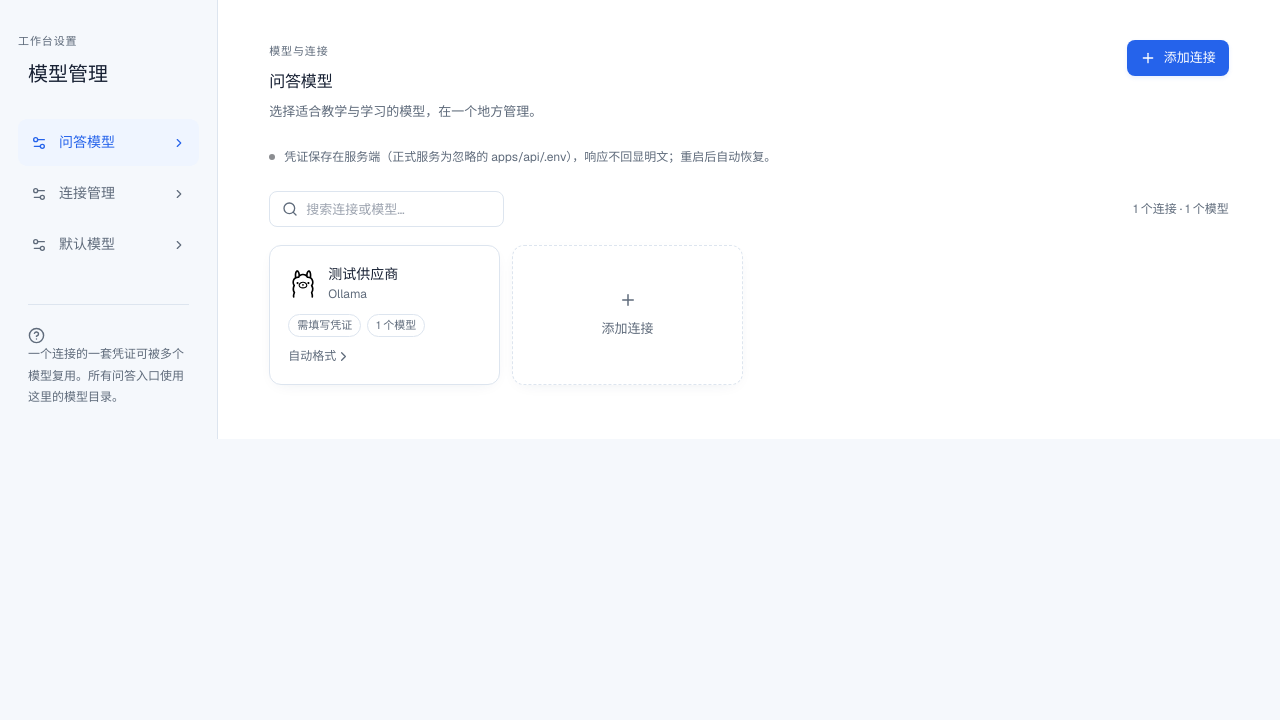
Scenario: 模型管理审查回归 › 本机免 Key 供应商可发起连接测试（MR-02）
The image size is (1280, 720).
Click the button with aria-label "打开 测试供应商 的详情".
click(385, 315)  # box [269, 245, 500, 385]
(page scrolled)
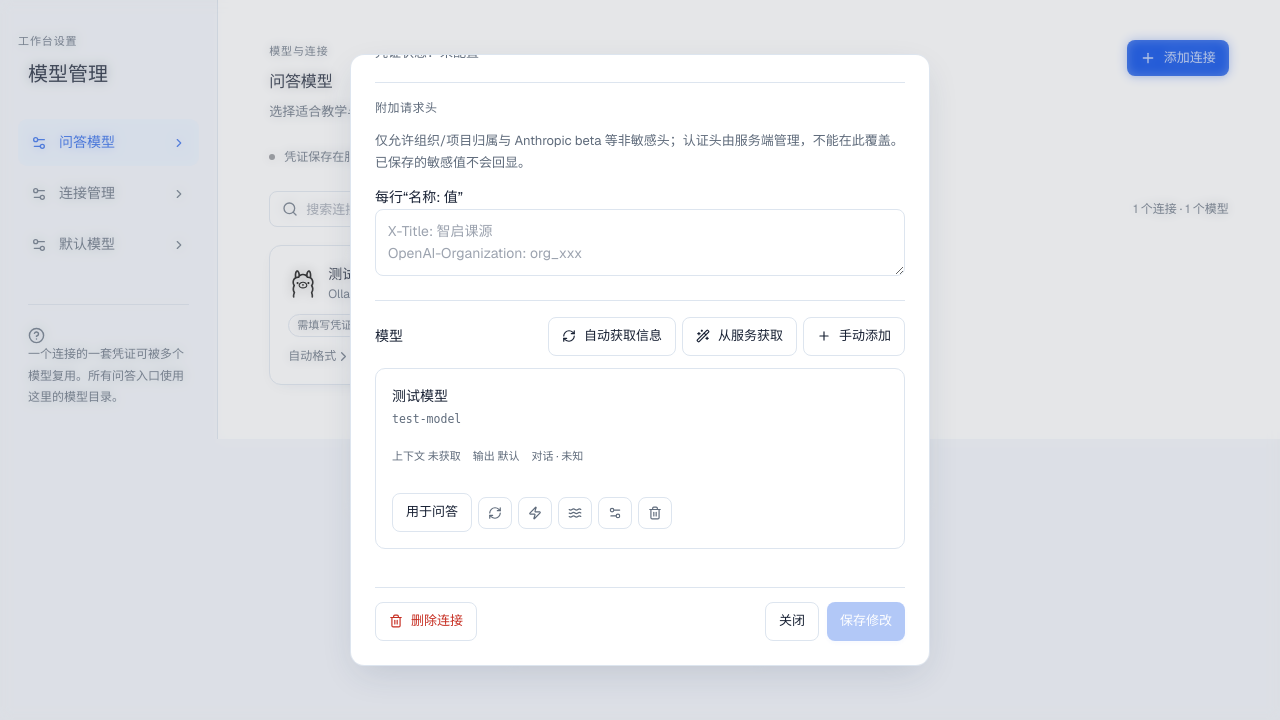
Expected: the button named "连接测试 测试模型" is enabled, [518, 497, 552, 529]
